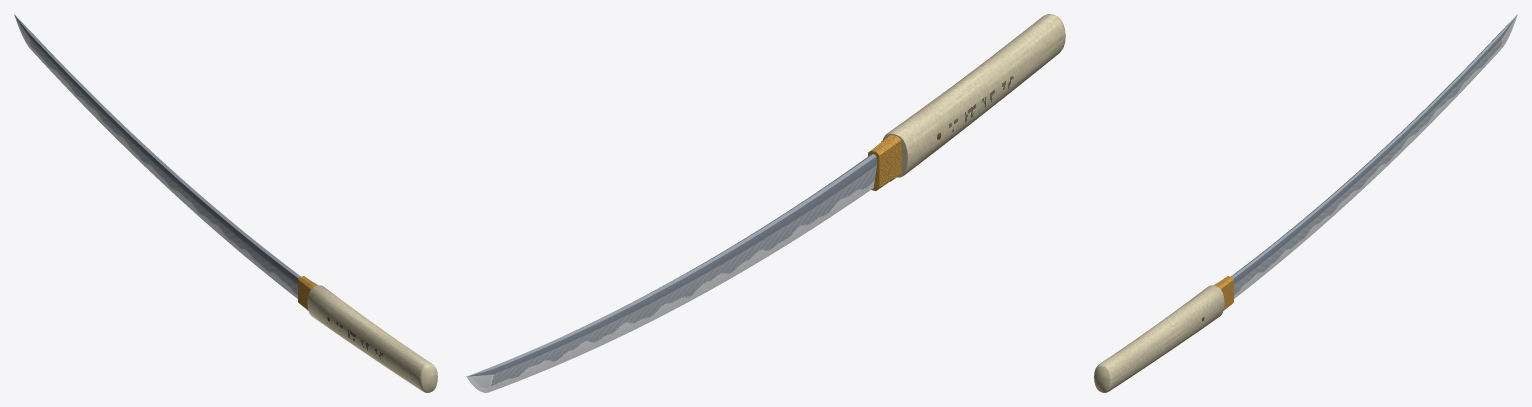
Rendered from w_katana_shirasaya.glb.
3 views of the same model, side by side, from view 1: azimuth 30°, elevation 25°; view 2: azimuth 150°, elevation 25°; view 3: azimuth 330°, elevation 25° (orthographic). The views are drawn at different scales.
Visible parts, largest first — view 1: shira_blade_wzB, shira_tsuka_wzA, shira_habaki_wzB; view 2: shira_blade_wzB, shira_tsuka_wzA, shira_habaki_wzB; view 3: shira_blade_wzB, shira_tsuka_wzA, shira_habaki_wzB.
Boxes of the visible parts, left/top/right/bottom form: shira_blade_wzB: left=14, top=14, right=300, bottom=298; shira_tsuka_wzA: left=307, top=285, right=437, bottom=392; shira_habaki_wzB: left=298, top=276, right=318, bottom=310; shira_blade_wzB: left=466, top=154, right=876, bottom=392; shira_tsuka_wzA: left=883, top=14, right=1065, bottom=177; shira_habaki_wzB: left=868, top=134, right=901, bottom=190; shira_blade_wzB: left=1231, top=14, right=1517, bottom=298; shira_tsuka_wzA: left=1094, top=285, right=1224, bottom=392; shira_habaki_wzB: left=1213, top=276, right=1233, bottom=310.
Size of the model in its own units: 0.0277 by 0.103 by 0.9582.
Materials: 4 (4 with a texture image).
